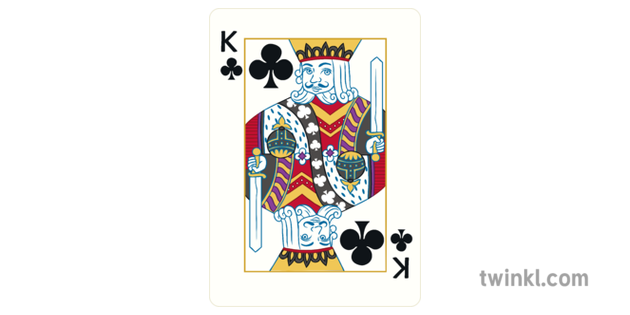king of clubs: (207, 5, 420, 307)
